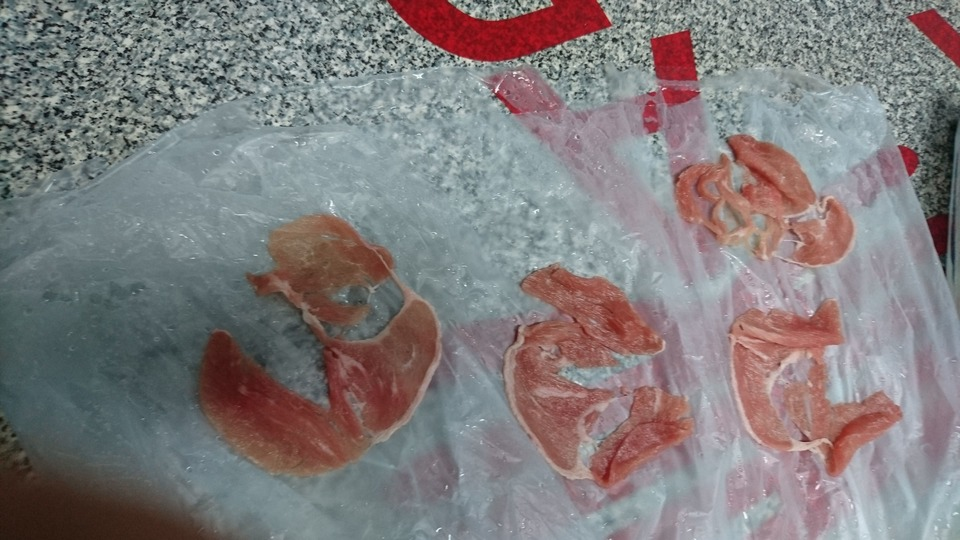restructured meat: (193, 211, 444, 478), (503, 259, 701, 492), (725, 290, 904, 482), (660, 125, 865, 275)
